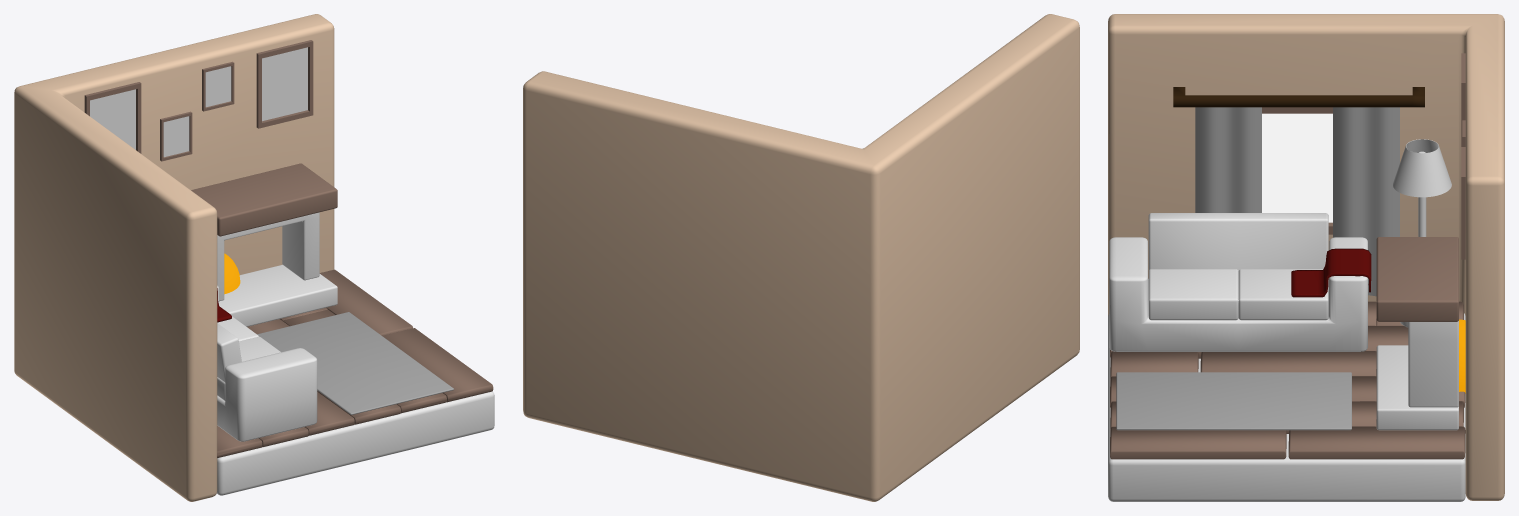
File: MYROOM.glb
3 renders of one model, left to right at view 1: azimuth 30°, elevation 25°; view 2: azimuth 150°, elevation 25°; view 3: azimuth 270°, elevation 25°, orthographic. The views are drawn at different scales.
Visible parts, largest first — view 1: Куб.001, Куб, Plane.004, Plane, Cube.001, Cube.009, Cube.008, Cube.005, Cube.010, Cube.004, Cube.006, Cube.007 (+2 smaller); view 2: Куб.001; view 3: Куб.001, Plane, Куб, Plane.004, Cube.001, Cube.003, Plane.002, Cube.002, Cube, Plane.001, Cube.009, Cube.010 (+6 smaller).
Part boxes in pixels (bbox=[...]): Куб.001: bbox=[14, 14, 334, 501]; Куб: bbox=[216, 391, 494, 495]; Plane.004: bbox=[257, 312, 453, 414]; Plane: bbox=[217, 269, 493, 458]; Cube.001: bbox=[217, 285, 317, 441]; Cube.009: bbox=[191, 163, 337, 236]; Cube.008: bbox=[219, 265, 337, 326]; Cube.005: bbox=[256, 40, 313, 128]; Cube.010: bbox=[217, 212, 319, 301]; Cube.004: bbox=[84, 82, 141, 153]; Cube.006: bbox=[160, 111, 192, 161]; Cube.007: bbox=[202, 61, 234, 111]; Куб.001: bbox=[523, 14, 1079, 501]; Куб.001: bbox=[1108, 14, 1504, 500]; Plane: bbox=[1110, 301, 1465, 459]; Куб: bbox=[1108, 313, 1465, 501]; Plane.004: bbox=[1116, 372, 1351, 430]; Cube.001: bbox=[1109, 237, 1367, 351]; Cube.003: bbox=[1148, 213, 1328, 270]; Plane.002: bbox=[1333, 107, 1399, 296]; Cube.002: bbox=[1148, 269, 1328, 320]; Cube: bbox=[1262, 107, 1332, 234]; Plane.001: bbox=[1195, 107, 1261, 212]; Cube.009: bbox=[1376, 237, 1458, 321]; Cube.010: bbox=[1408, 321, 1458, 407].
Size of what is drawn, in the model's own units: 2.22 by 2 by 2.22.
